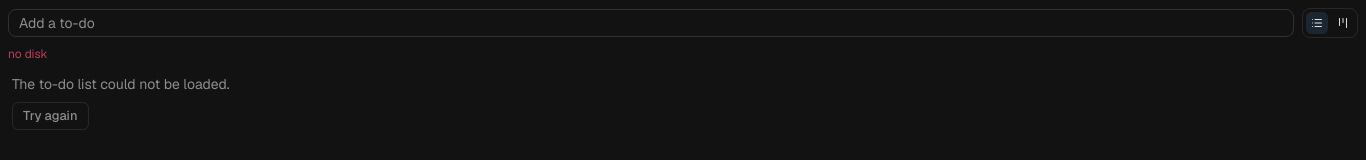
the to-do panel › offers to try again when the items cannot be loaded
Click the button "Try again". click: (50, 116)
box: [12,102,88,130]
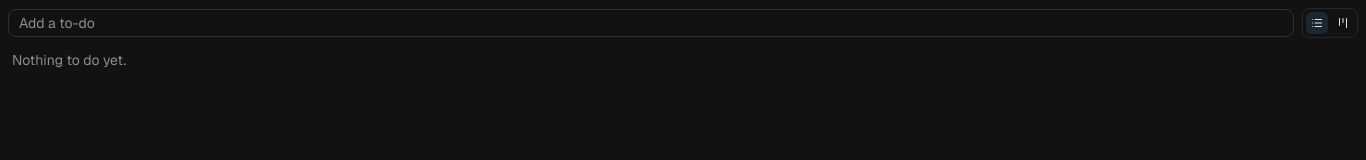
Result: the text "Nothing to do yet." is shown at [12,51,126,69]
